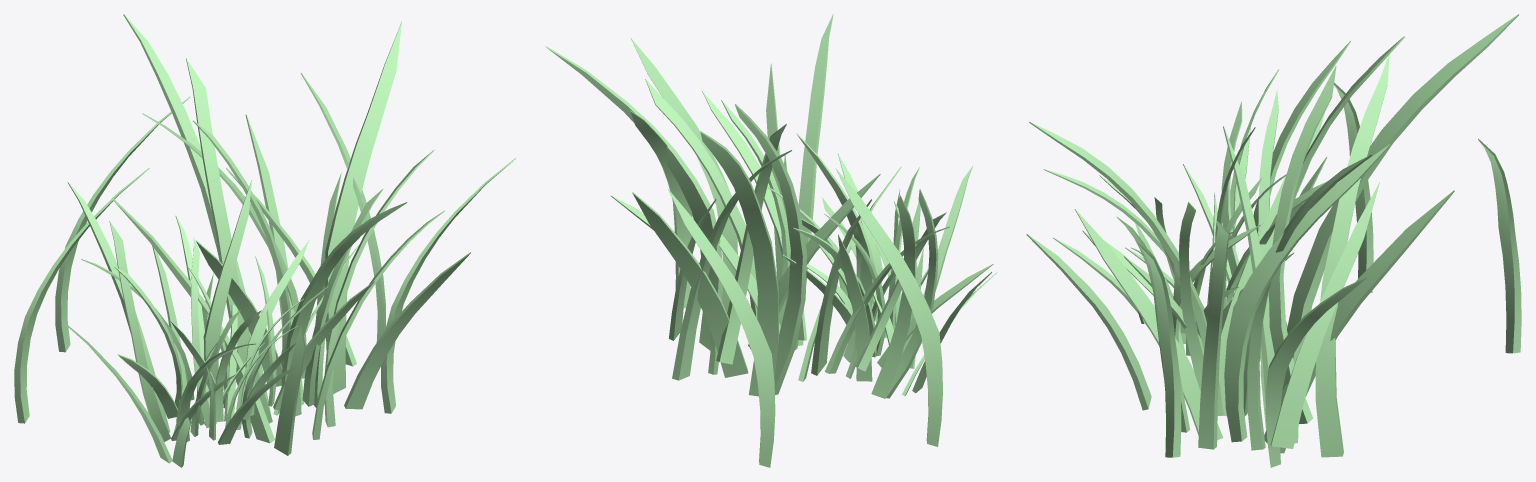
File: sm_animplants_01.gltf
The picture shows the model from 3 angles, left to right: view 1: azimuth 30°, elevation 25°; view 2: azimuth 150°, elevation 25°; view 3: azimuth 270°, elevation 25°; orthographic projection. The views are drawn at different scales.
Parts seen in each view (by area): view 1: sm_animplants_01; view 2: sm_animplants_01; view 3: sm_animplants_01.
Part boxes in pixels (left/top/right/bottom): sm_animplants_01: left=14, top=14, right=516, bottom=467; sm_animplants_01: left=545, top=14, right=997, bottom=467; sm_animplants_01: left=1026, top=14, right=1521, bottom=467.
Bounding box in the file's own units: 0.6361 × 0.524 × 0.569.
